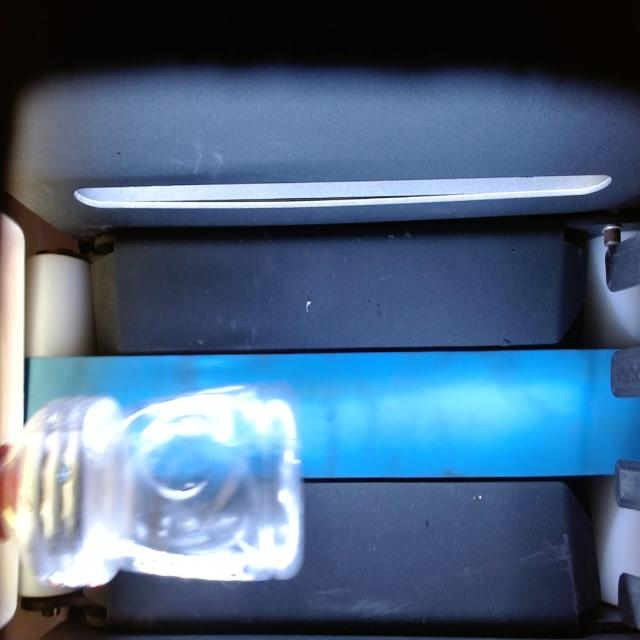bottom: (122, 387, 302, 580)
label: (15, 396, 132, 588)
neck: (0, 444, 21, 539)
